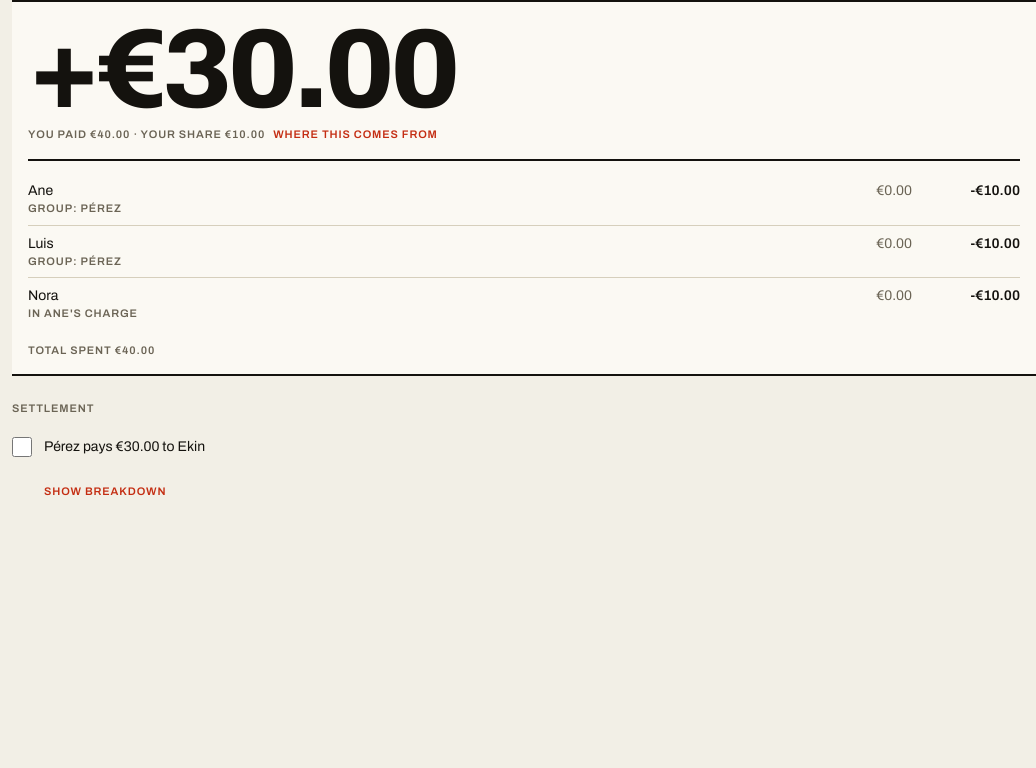
Test case: a household on the balance screen › unfolds what each member contributes, children included
Click the button "Show breakdown" at (105, 491), box [44,469,166,513]
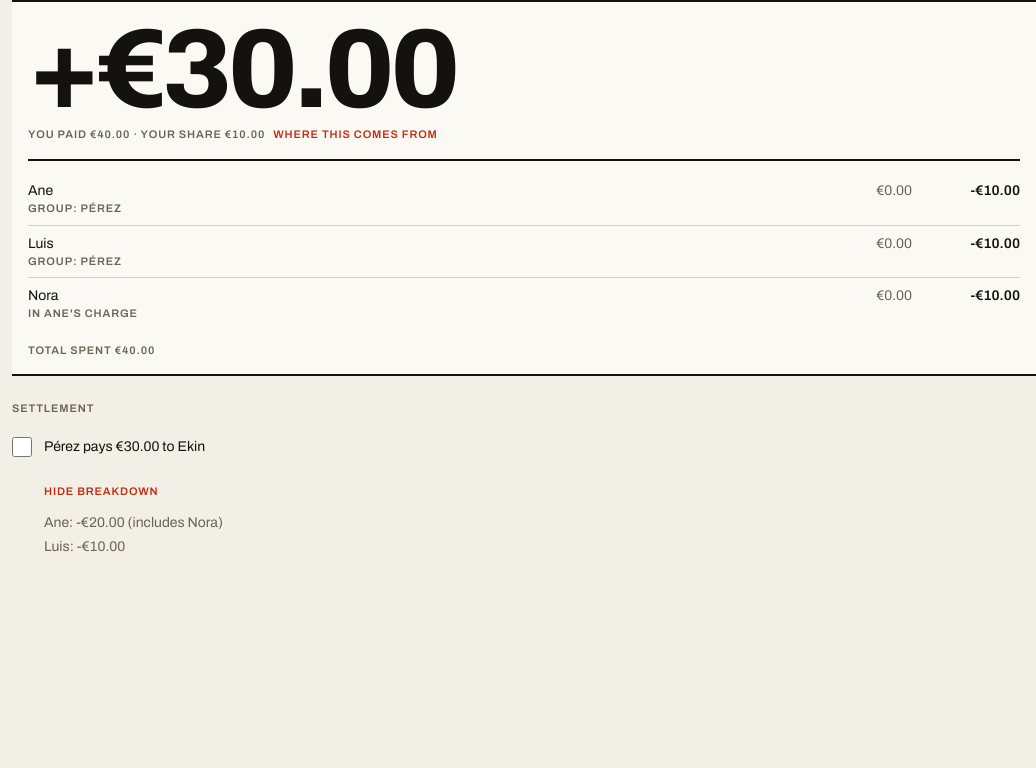
Check: the list item "Luis: -€10.00" does not show "includes", box [44,539,125,554]
Check: the list item "Ane: -€20.00 (includes Nora)" is shown, box [44,515,223,530]
Click the button "Hide breakdown" at (101, 491), box [44,469,159,513]
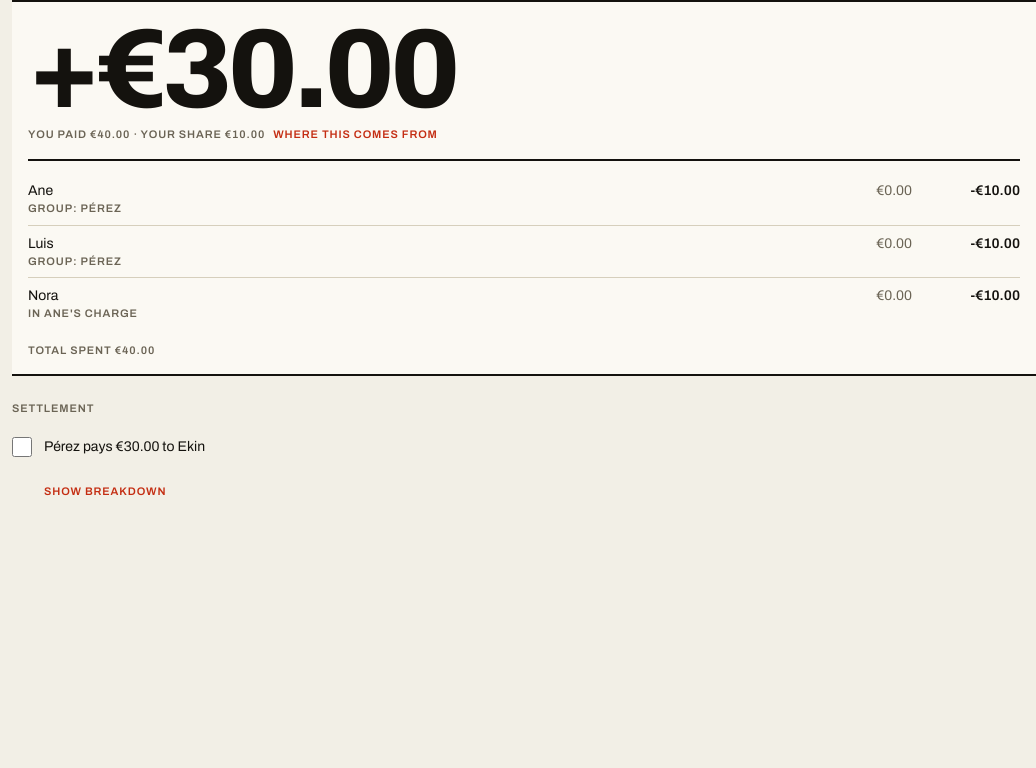
Check: the list item "Luis: -€10.00" is gone
